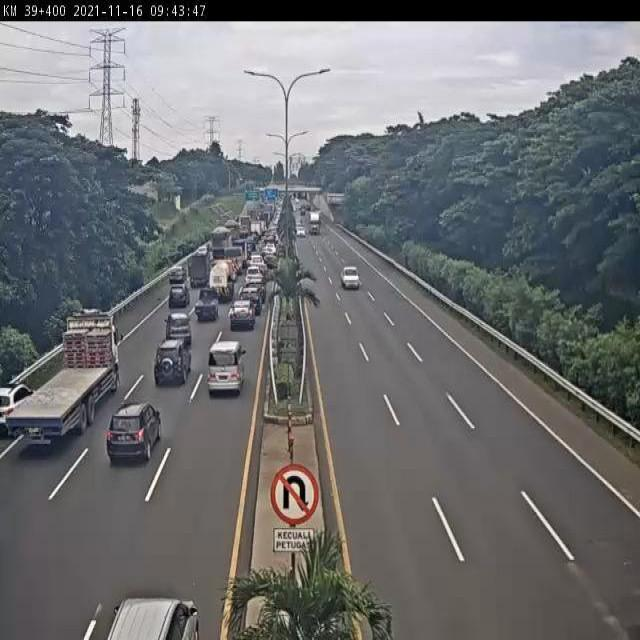car: (106, 597, 200, 640), (107, 401, 162, 464), (207, 341, 245, 396), (0, 382, 35, 438), (152, 341, 190, 388), (166, 314, 194, 349), (197, 289, 221, 323), (230, 300, 254, 333), (240, 288, 262, 315), (167, 287, 189, 312), (165, 266, 187, 286), (246, 280, 266, 301), (342, 265, 359, 288), (246, 265, 264, 284), (248, 254, 264, 266), (297, 227, 304, 236)
small truck: (187, 248, 214, 287), (225, 246, 244, 274)
truck-l-: (9, 311, 120, 436), (308, 210, 320, 233)
truck-m-: (206, 261, 234, 307), (209, 228, 231, 264)
